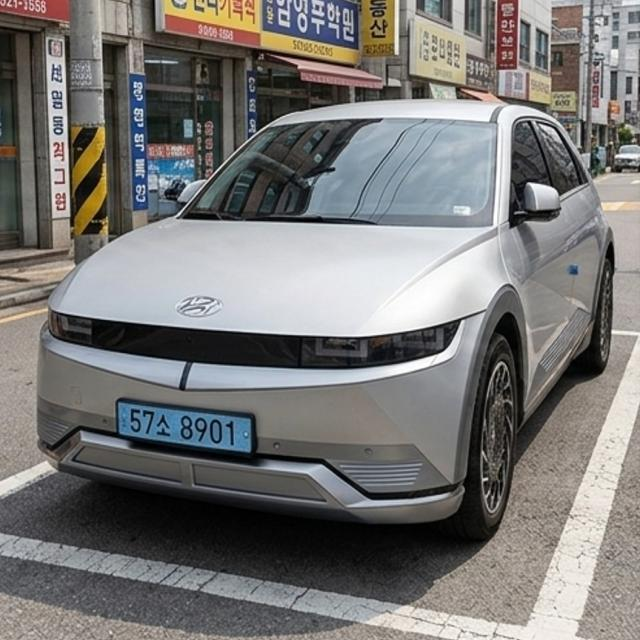car: (100, 392, 286, 471)
carev: (238, 407, 257, 462), (114, 398, 130, 440)
